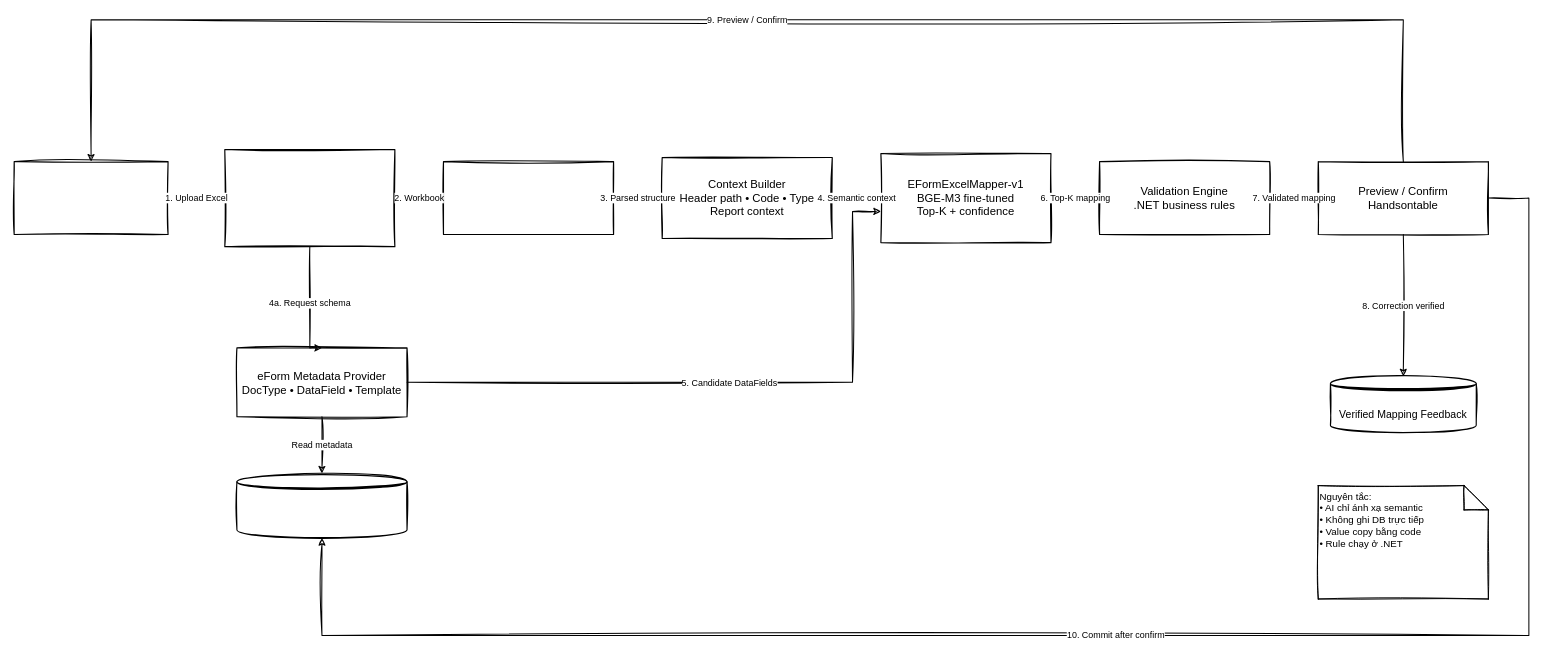
Image size: 1550x657. Some labels were removed from this diagram. Here are the shapes that lost their labels. From the top down, the centre of each, then its label:
At (90,198): "Người dùng Trình duyệt + Handsontable".
At (309,197): "Module Import Excel .NET MVC / API Điều phối luồng".
At (528,198): "Excel Parser openpyxl / Python Sheet • Merge • Header".
At (321,505): "MySQL 5.7 eForm Database".
